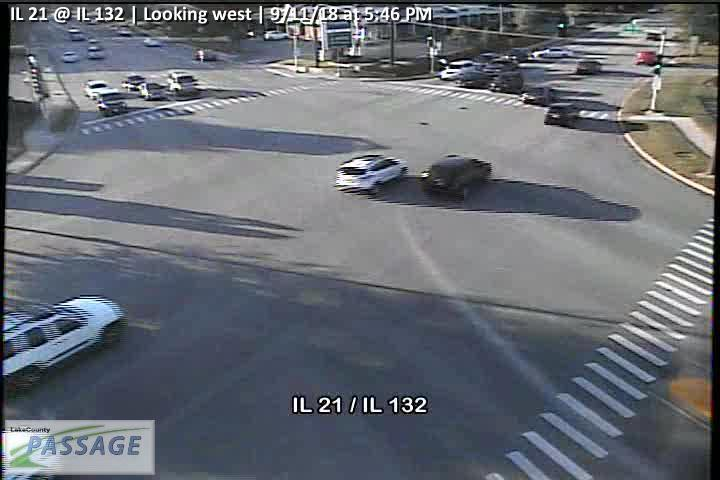SUV: (1, 294, 127, 396), (419, 154, 492, 200), (335, 153, 408, 196), (95, 88, 128, 117), (543, 102, 578, 128), (440, 59, 480, 81), (168, 71, 199, 96), (489, 71, 524, 93), (482, 58, 518, 77), (532, 46, 573, 58), (575, 59, 602, 75), (633, 49, 656, 66)
Sedan: (522, 85, 554, 105), (455, 70, 489, 88), (138, 81, 167, 100), (84, 80, 111, 100), (121, 74, 145, 90)
